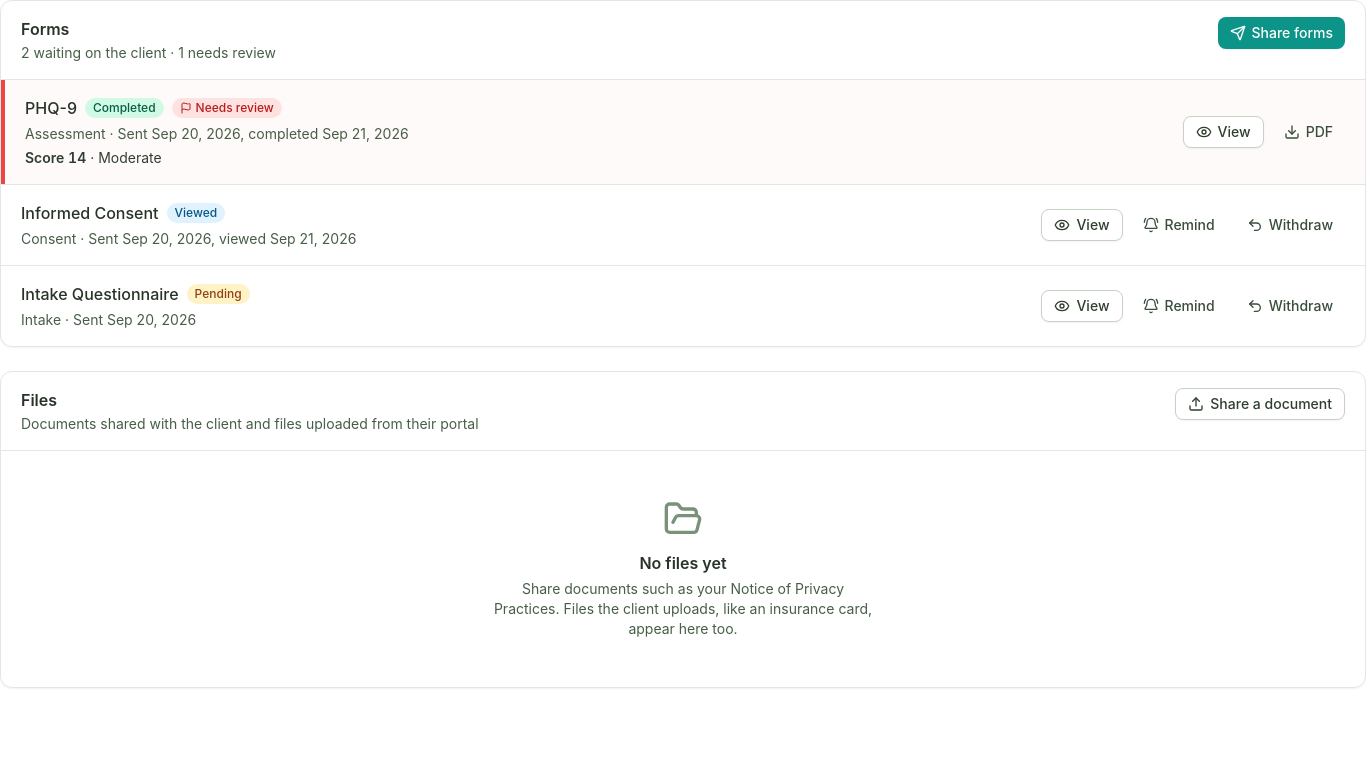
ClientDocumentsTab › shows a completed form read-only with answers, score and flag reason
Click the button with aria-label "View PHQ-9".
click(1223, 132)  # box [1183,116,1264,148]
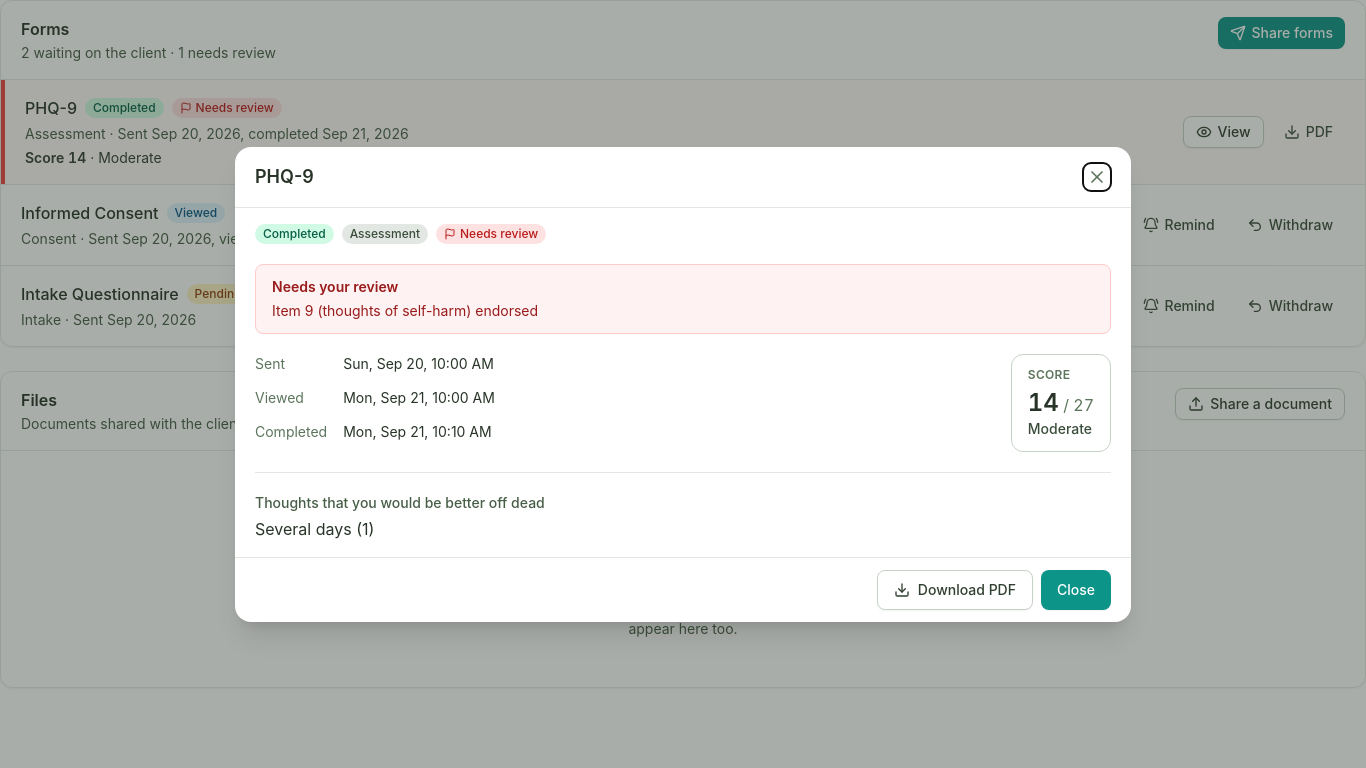
Expected: the text "Item 9 (thoughts of self-harm) endorsed" is shown, [272,302,538,318]
Expected: the text "Several days (1)" is shown, [255,518,374,538]
Expected: the text "/ 27" is shown, [1059,394,1094,414]
